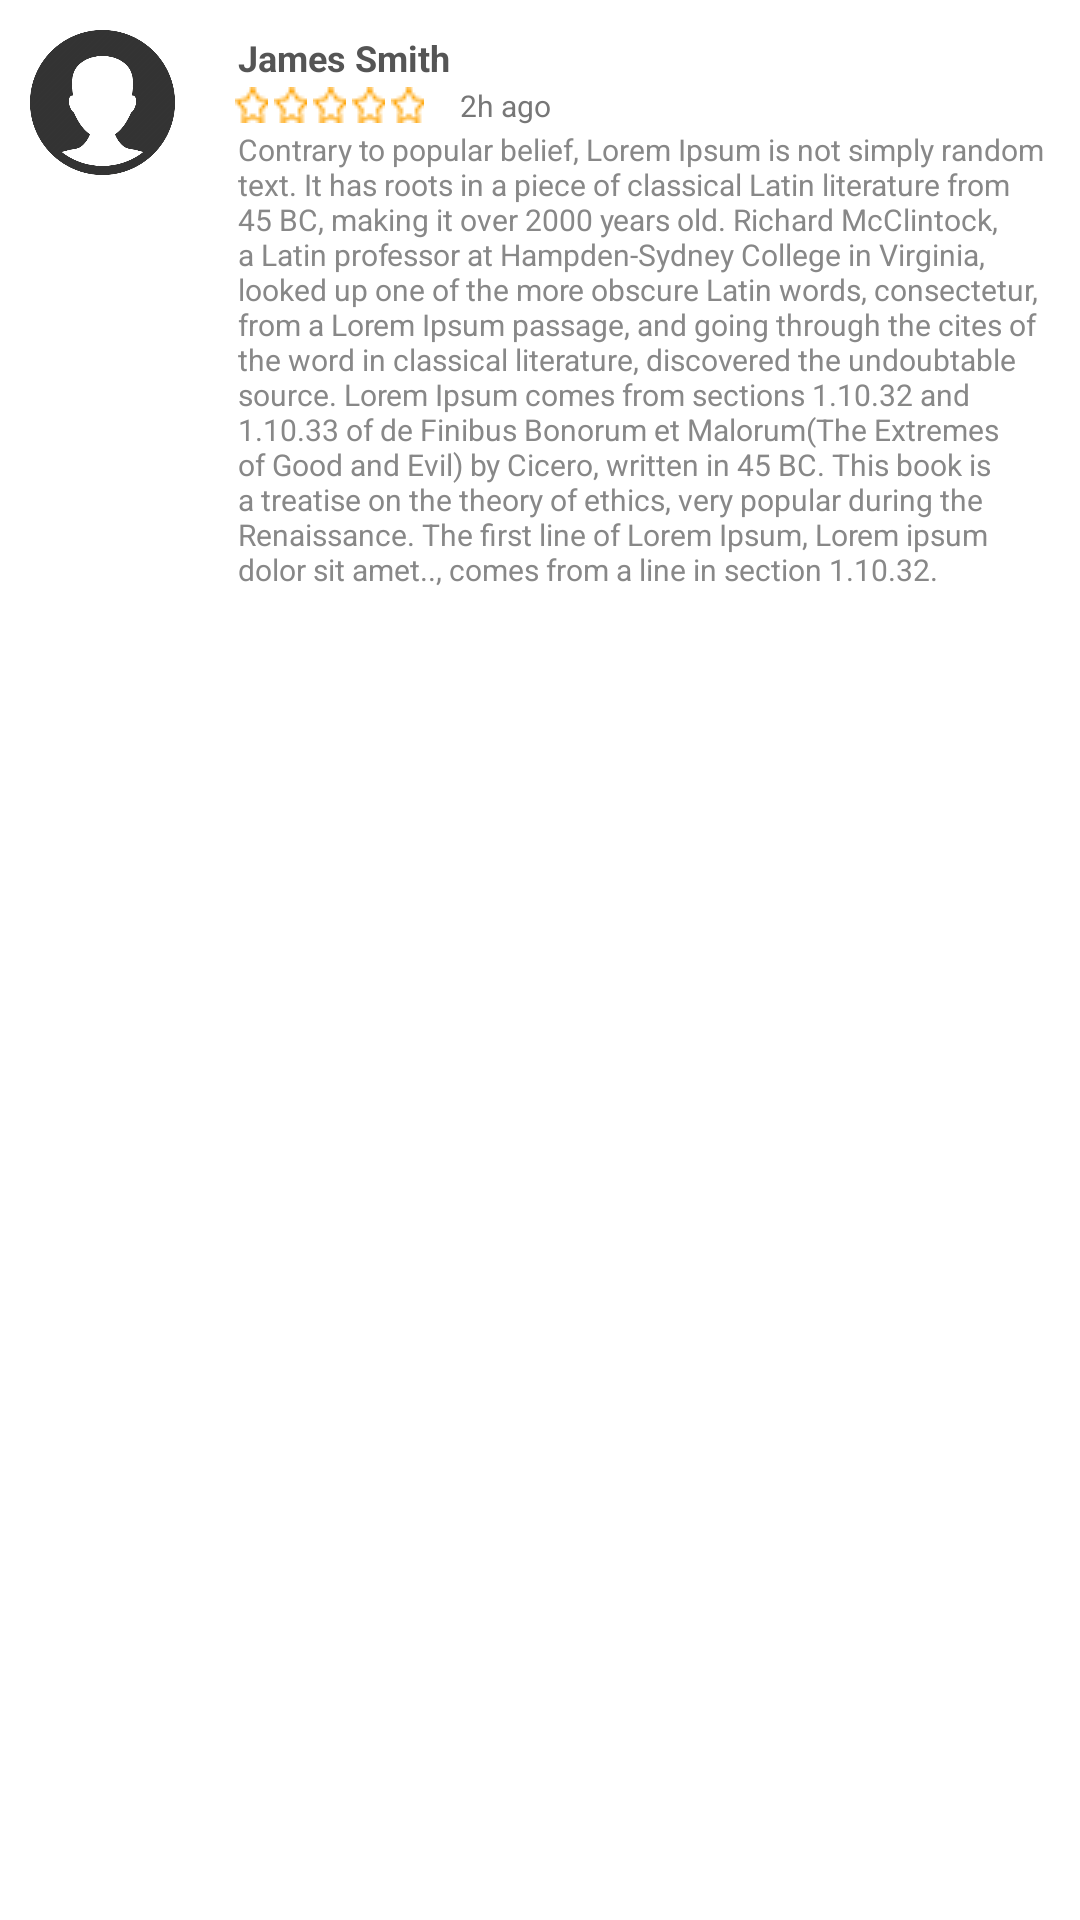

Screen size 1080 x 1920. Icon name, then its box in pixels as bbox=(x1, y1, x2, y2):
checkbox rating: bbox=(235, 87, 268, 123), bbox=(274, 87, 307, 123), bbox=(313, 87, 346, 123), bbox=(352, 87, 385, 123), bbox=(391, 87, 424, 123)
profile: bbox=(30, 30, 175, 175)
